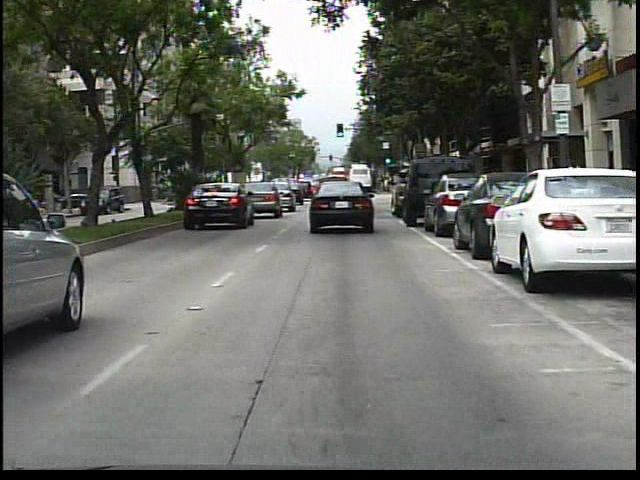person: (562, 155, 585, 218)
